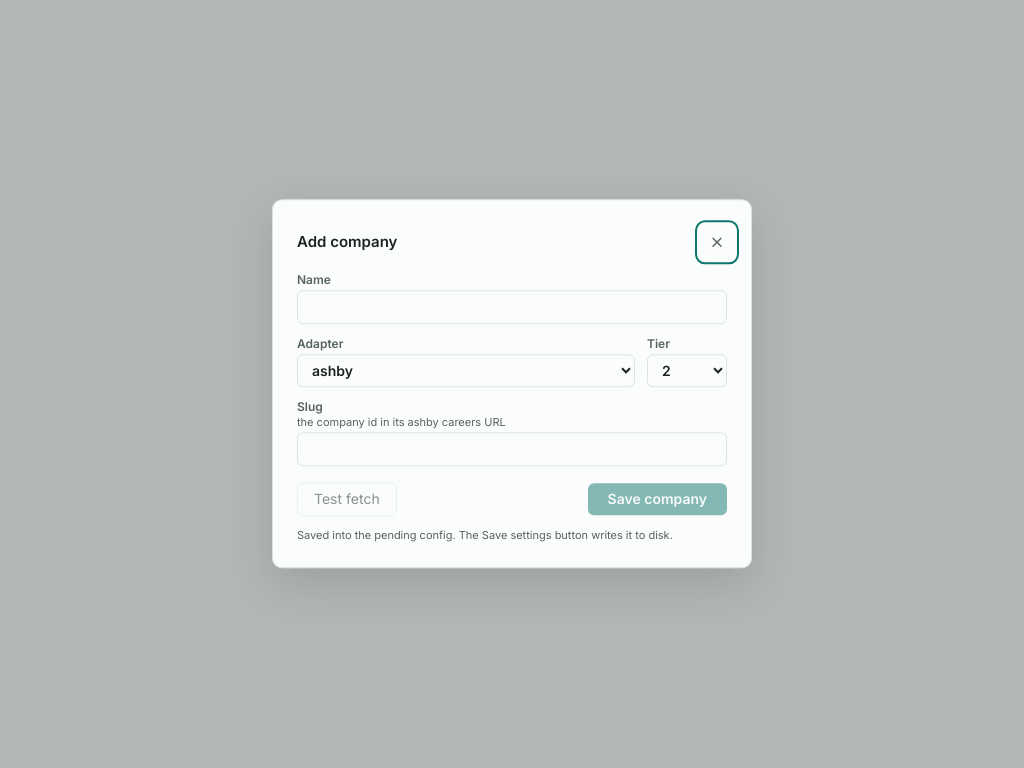
Test: CompanyDialog › shows the live-fetch result after Test succeeds
In the field named "Company name": (512, 307) [297,290,727,324], type "Acme"
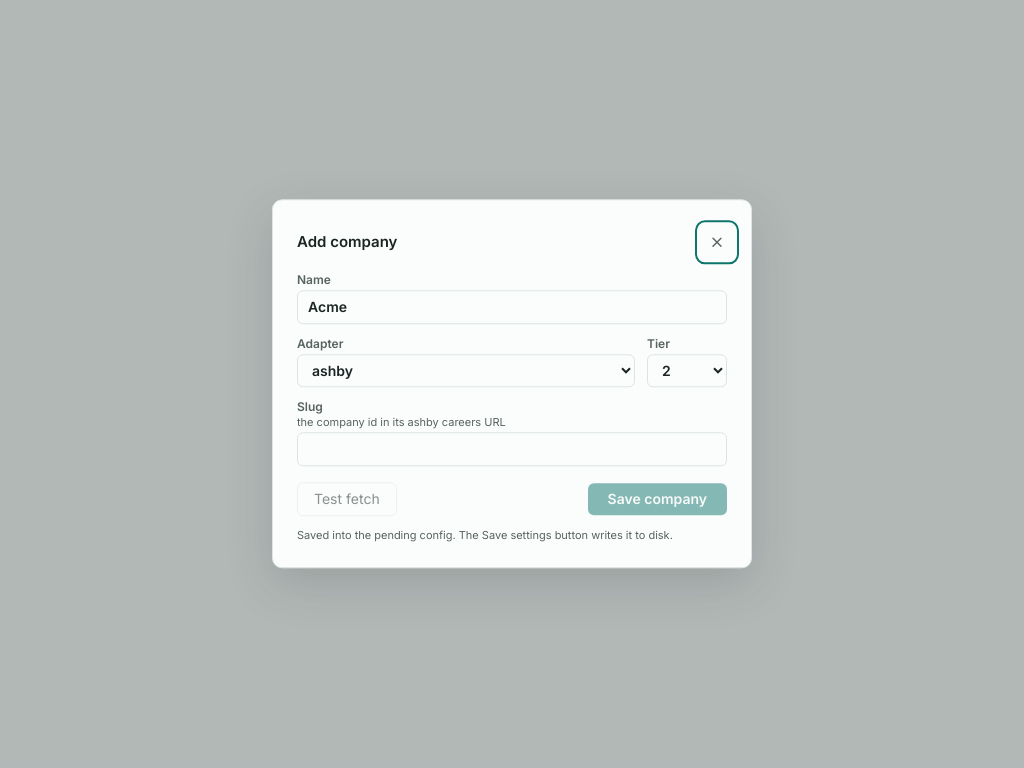
In the field labelled "Slug": (512, 449) [297,432,727,466], type "acme"
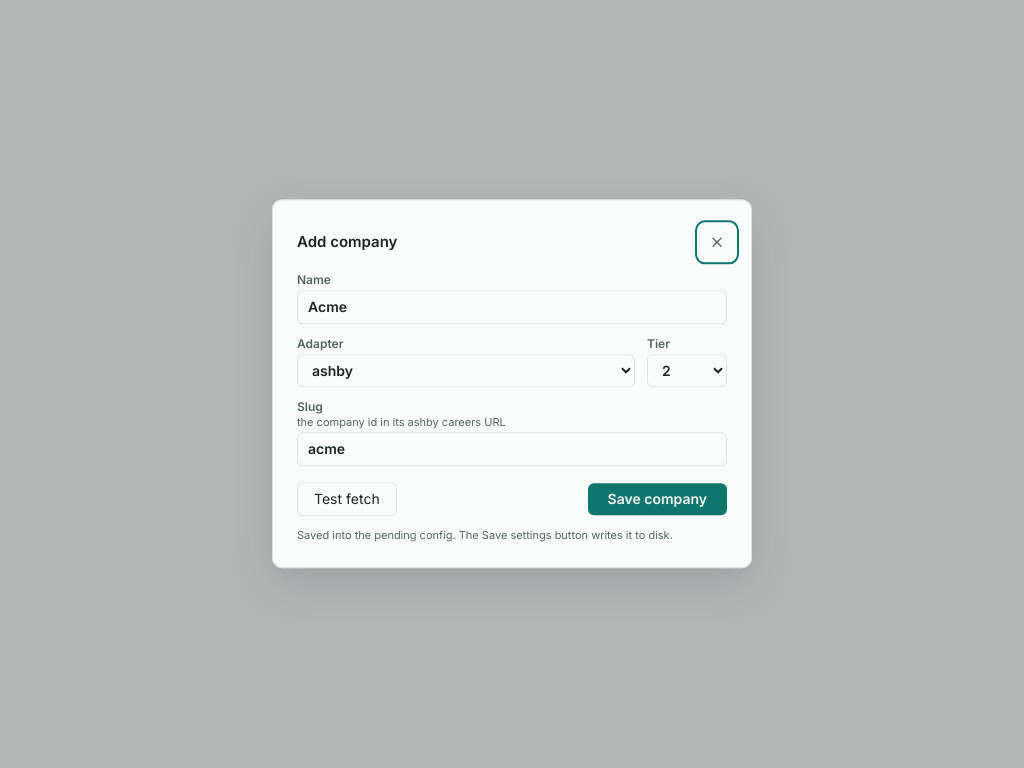
Click the button "Test fetch": (347, 499) [297,482,397,516]
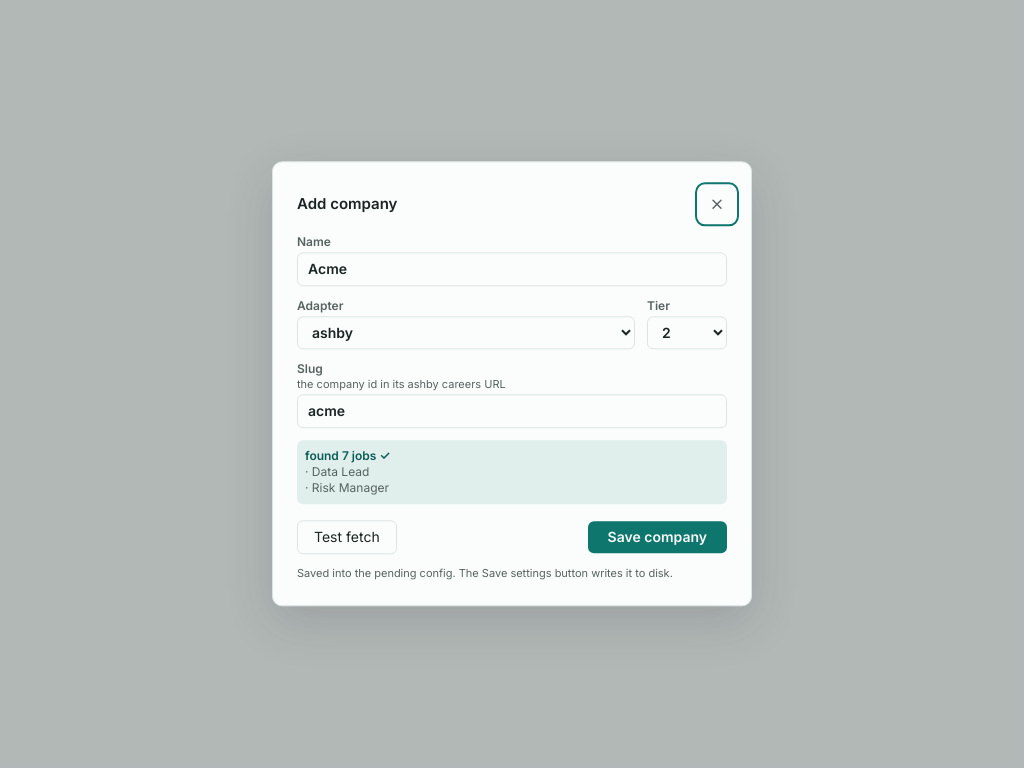
Expected: the text "found 7 jobs ✓" is shown, [305,448,390,463]
Expected: the text "· Data Lead" is shown, [305,464,369,479]
